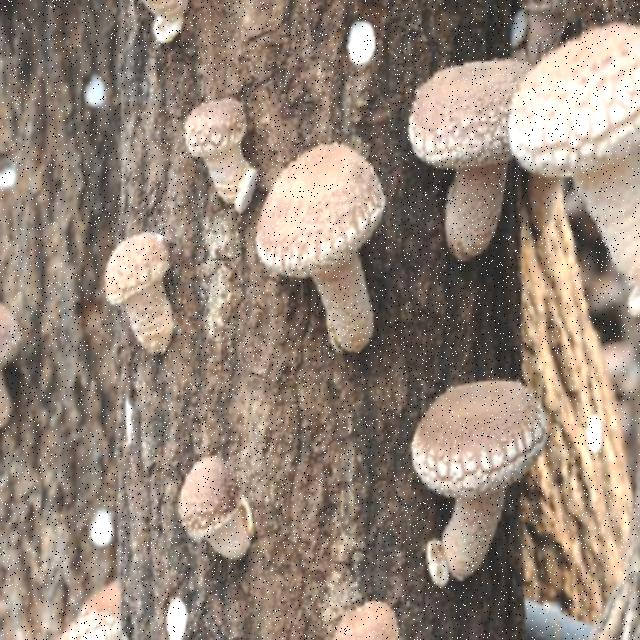Mushroom: (231, 122, 406, 366)
